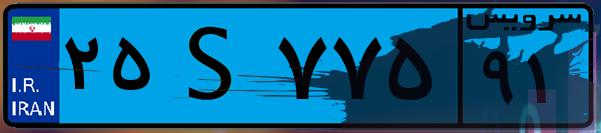1: (525, 38, 570, 115)
2: (57, 26, 110, 100)
5: (385, 28, 445, 110), (110, 28, 158, 98)
7: (270, 28, 330, 110), (330, 28, 385, 110)
9: (475, 38, 525, 113)
S: (158, 12, 270, 120)
